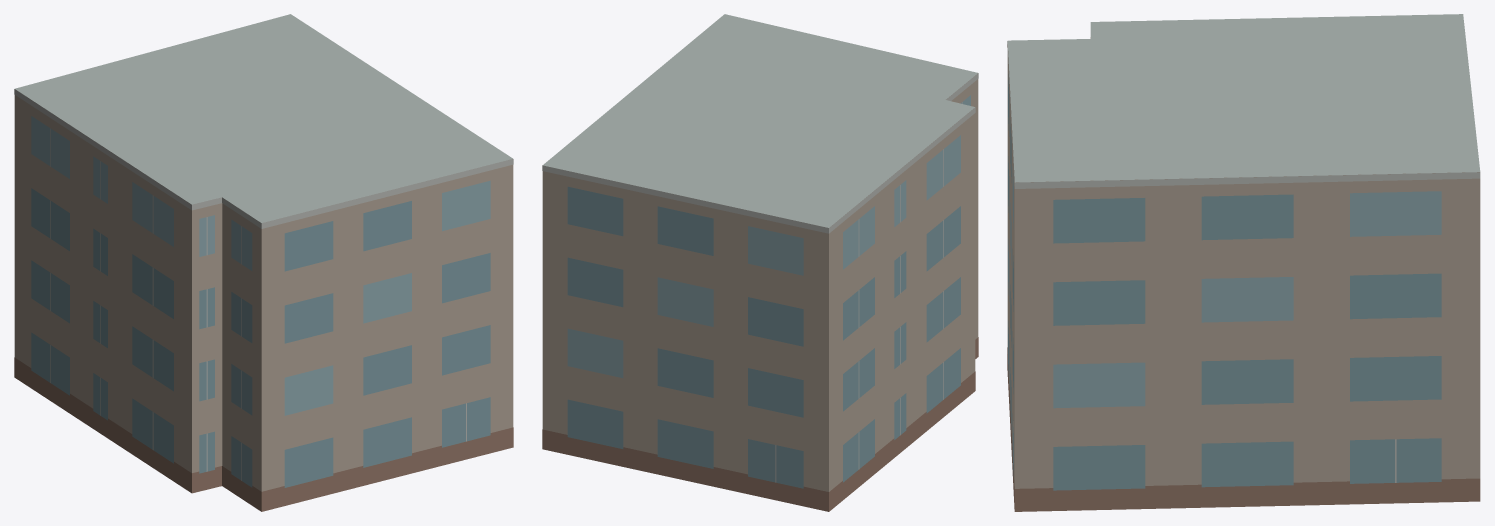
File: survey-upis-32913979.glb
The picture shows the model from 3 angles, left to right: view 1: azimuth 30°, elevation 25°; view 2: azimuth 150°, elevation 25°; view 3: azimuth 270°, elevation 25°; orthographic projection. The views are drawn at different scales.
Visible parts, largest first — view 1: survey-upis-32913979.tmp; view 2: survey-upis-32913979.tmp; view 3: survey-upis-32913979.tmp.
Part boxes in pixels (x1,y1,x2,y2): survey-upis-32913979.tmp: (14, 14, 513, 511); survey-upis-32913979.tmp: (542, 14, 978, 511); survey-upis-32913979.tmp: (1007, 14, 1480, 511).
Size of the model in its own units: 13.39 by 12.2 by 15.88.
